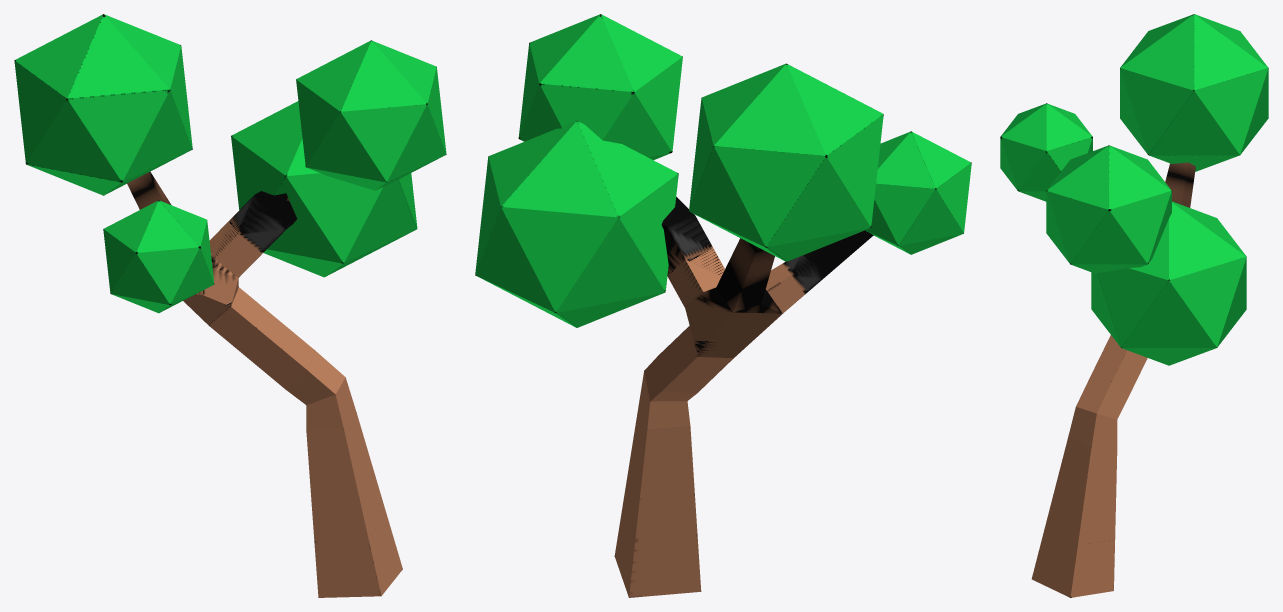
Rendered from Tree_01.glb.
3 views of the same model, side by side, from view 1: azimuth 30°, elevation 25°; view 2: azimuth 150°, elevation 25°; view 3: azimuth 270°, elevation 25° (orthographic). The views are drawn at different scales.
Visible parts, largest first — view 1: Icosphere; view 2: Icosphere; view 3: Icosphere.
Part boxes in pixels (x1,y1,x2,y2): Icosphere: (14, 14, 446, 597); Icosphere: (475, 14, 971, 597); Icosphere: (1000, 14, 1268, 597).
Size of the model in its own units: 3.12 by 4.65 by 2.28.
Materials: 1 (1 with a texture image).
